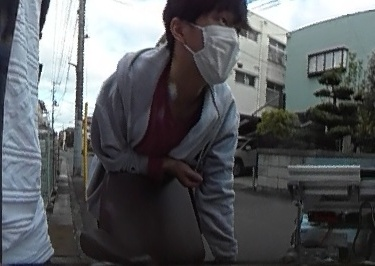person: (99, 0, 243, 266)
